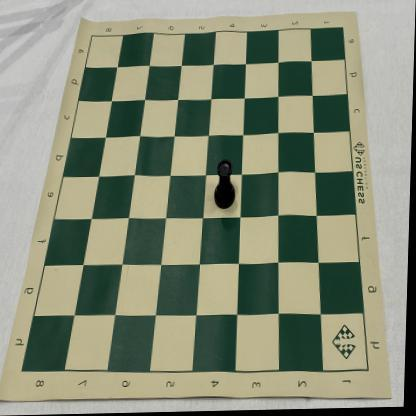black-rook: (215, 160, 238, 211)
